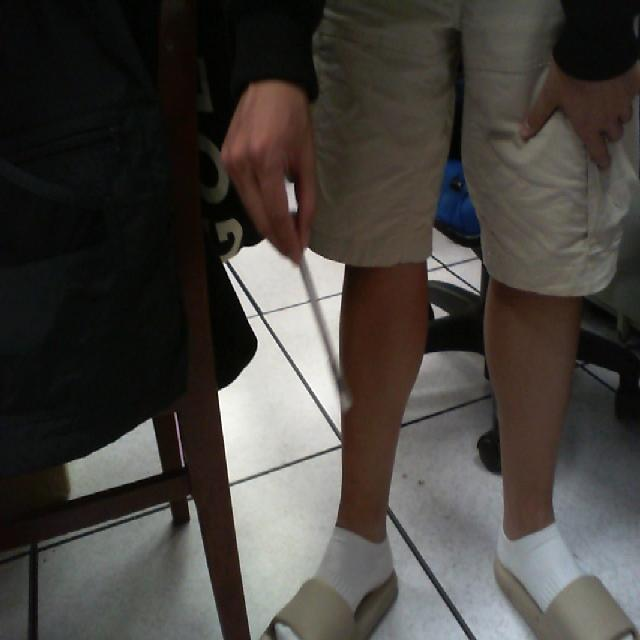Pen: (263, 195, 372, 452)
